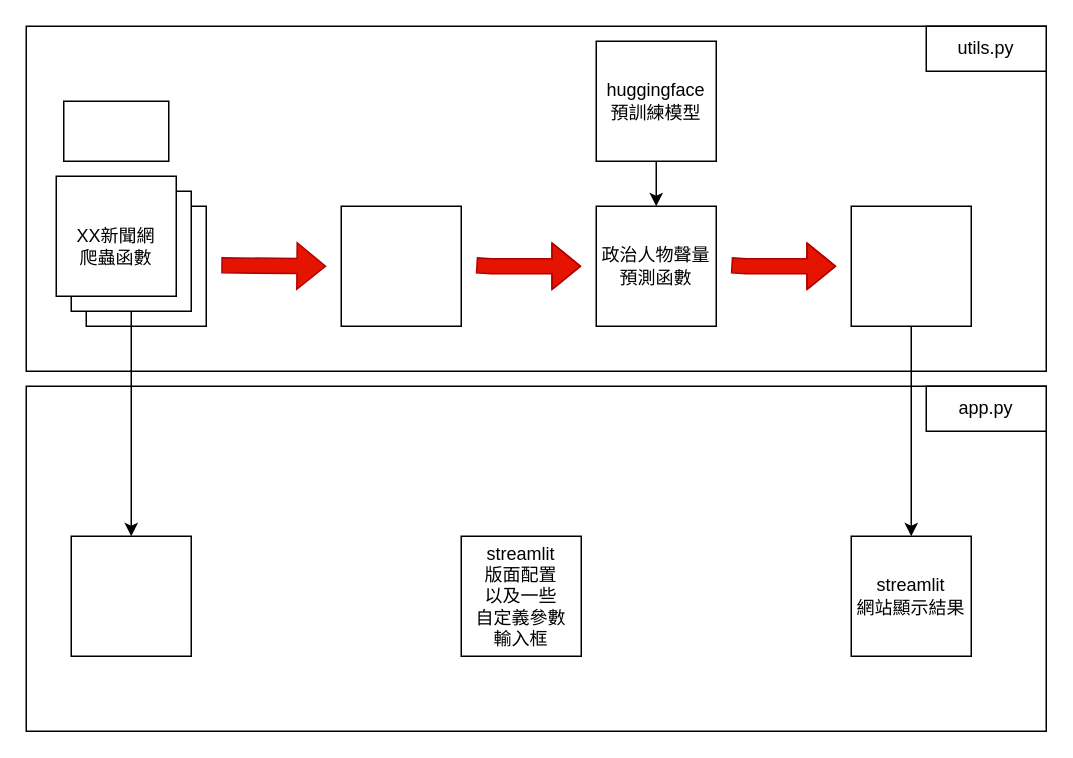
This 1073x758 diagram has some shape labels left out. Here are the shapes that lost their labels. From the top down, the centre of each, then its label:
At point 115,130: "多種網站爬蟲函數".
At point 400,265: "資料統整 資料合併 函數".
At point 910,265: "結果".
At point 130,595: "streamlit 互動控制項".
